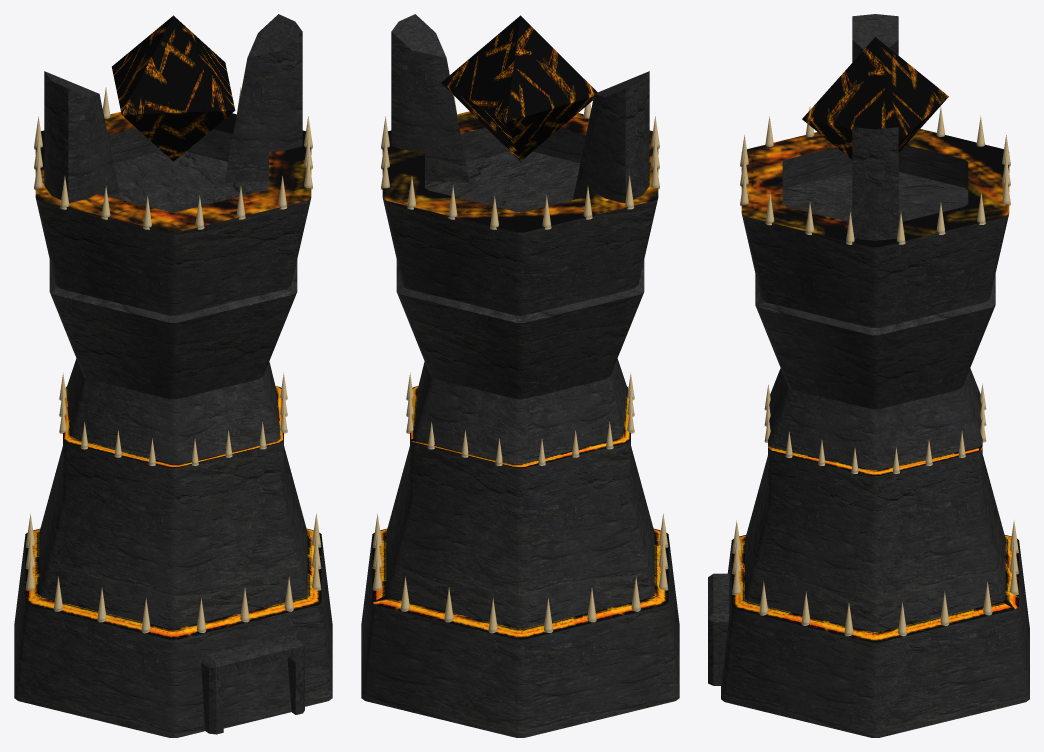
File: Tower_02.FBX
3 renders of one model, left to right at view 1: azimuth 30°, elevation 25°; view 2: azimuth 150°, elevation 25°; view 3: azimuth 270°, elevation 25°, orthographic. The views are drawn at different scales.
Visible parts, largest first — view 1: Not_Sauron_Tower, Lava, Eye_Of_Banana, Spikes, Maybe_A_Door; view 2: Not_Sauron_Tower, Lava, Eye_Of_Banana, Spikes; view 3: Not_Sauron_Tower, Lava, Eye_Of_Banana, Spikes.
Part boxes in pixels (box(x1,y1,x2,y2)): Not_Sauron_Tower: box(14, 14, 332, 737); Lava: box(25, 112, 321, 639); Eye_Of_Banana: box(112, 15, 235, 161); Spikes: box(25, 87, 321, 633); Maybe_A_Door: box(223, 658, 291, 728); Not_Sauron_Tower: box(361, 14, 679, 737); Lava: box(372, 111, 668, 639); Eye_Of_Banana: box(441, 15, 597, 161); Spikes: box(372, 95, 668, 633); Not_Sauron_Tower: box(708, 14, 1029, 737); Lava: box(732, 129, 1018, 642); Eye_Of_Banana: box(802, 37, 948, 159); Spikes: box(732, 106, 1018, 636).
Bounding box in the file's own units: 1.04 × 2.04 × 0.9487.
